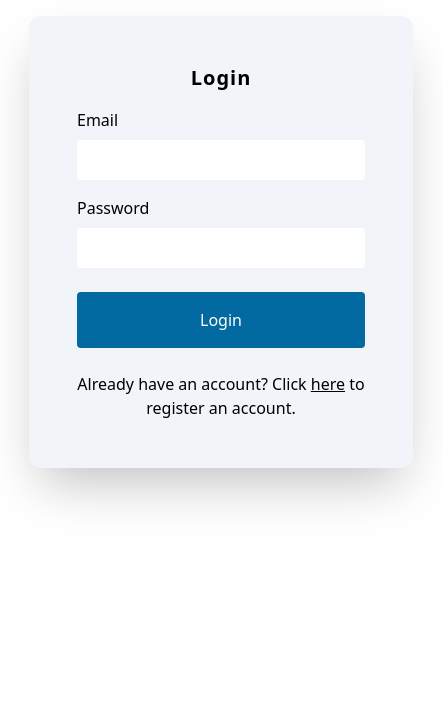
it: should route user to register page when link is clicked
This screenshot has width=443, height=715.
What coordinates should you click on to do the following:
click the link "here"
I would click on:
 (328, 384)
Its box is [311, 373, 345, 395].
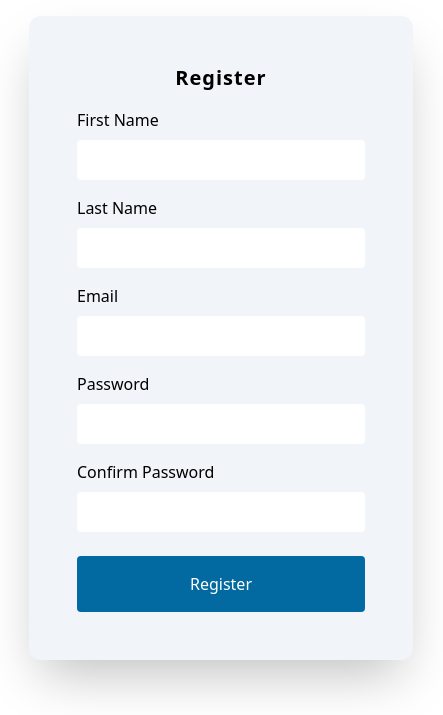
Expected: the heading "Register" is shown, [175, 64, 267, 91]
